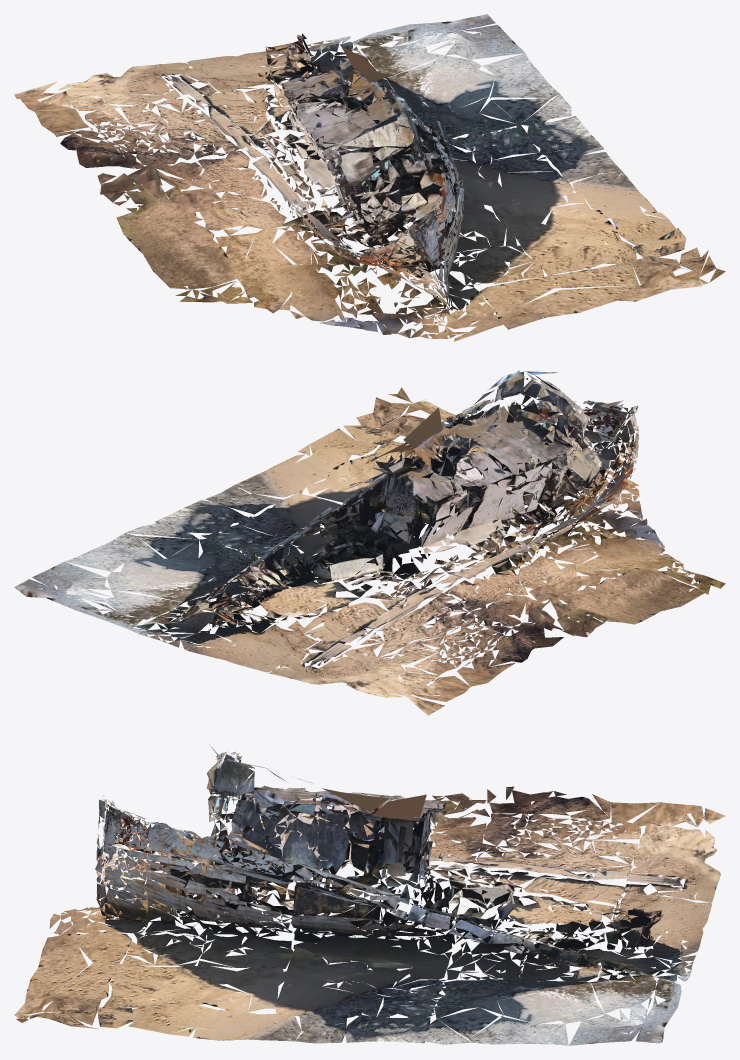
File: boat_wreck.glb
The picture shows the model from 3 angles, top to bottom: view 1: azimuth 30°, elevation 25°; view 2: azimuth 150°, elevation 25°; view 3: azimuth 270°, elevation 25°; orthographic projection. The views are drawn at different scales.
Visible parts, largest first — view 1: Object_3, Object_4, Object_2, Object_5; view 2: Object_3, Object_4, Object_2, Object_5; view 3: Object_3, Object_4, Object_5, Object_2.
Boxes of the visible parts, x1,y1,x2,y2 form: Object_3: (127, 14, 686, 338); Object_4: (14, 33, 725, 329); Object_2: (156, 46, 500, 341); Object_5: (58, 62, 573, 334); Object_3: (14, 394, 642, 633); Object_4: (128, 387, 725, 715); Object_2: (231, 370, 683, 617); Object_5: (201, 406, 664, 697); Object_3: (53, 788, 681, 1045); Object_4: (14, 786, 725, 1029); Object_5: (106, 785, 720, 1018); Object_2: (49, 744, 530, 980).
Bounding box in the file's own units: 25.74 × 8.7 × 30.31.
1 material, 1 textured.
